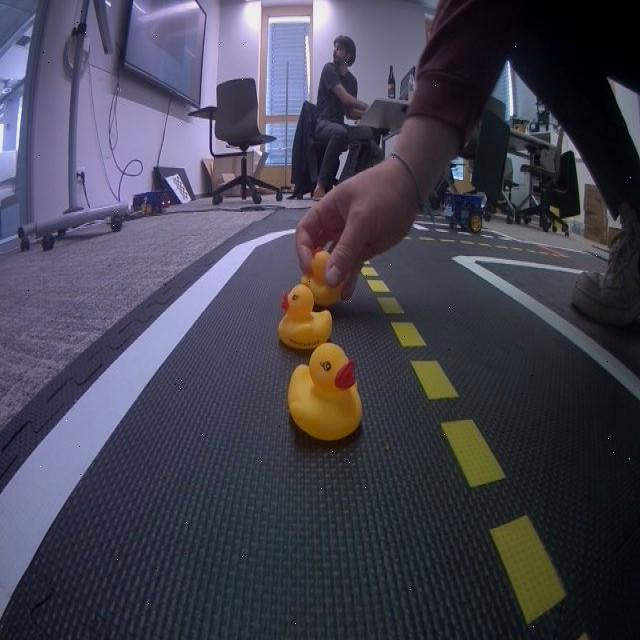bot: (442, 192, 485, 232)
duckie: (286, 344, 364, 443), (277, 287, 332, 350), (298, 248, 344, 306)
park: (411, 219, 517, 241)
